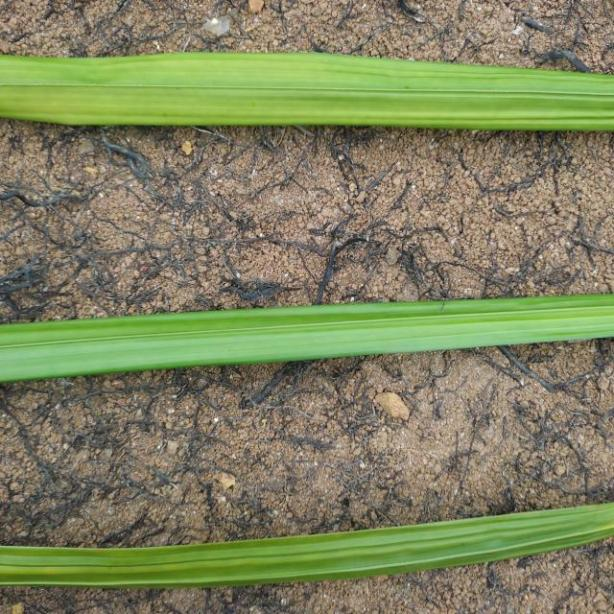nitrogen: (0, 291, 614, 387), (0, 497, 614, 592), (5, 40, 614, 126)
